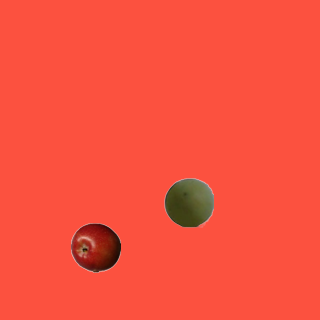Apple Braeburn: (70, 222, 120, 272)
Grape White 4: (163, 177, 213, 227)
